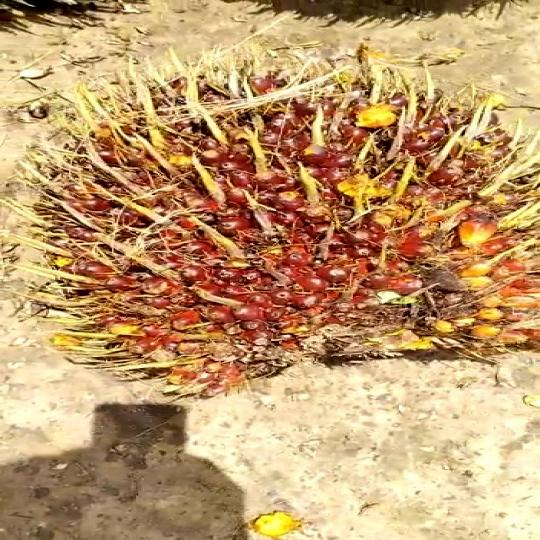masak: (35, 59, 540, 408)
